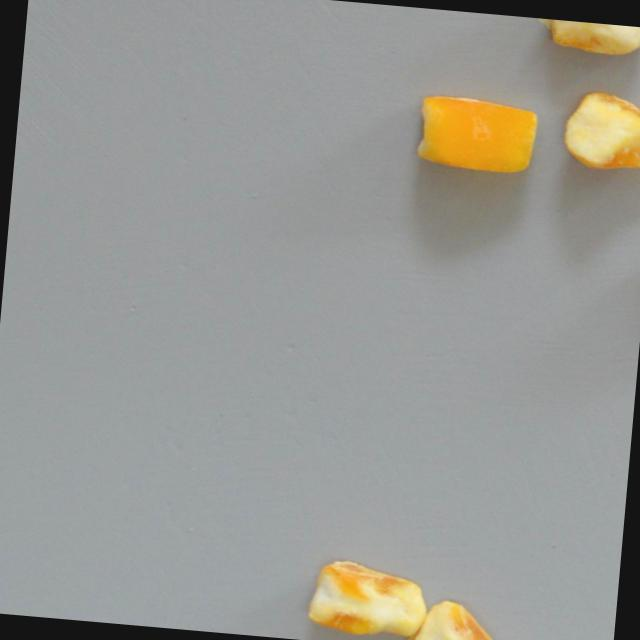pelicula: (302, 555, 429, 640), (413, 94, 539, 177), (560, 89, 640, 174), (531, 17, 640, 60), (408, 595, 507, 640)
